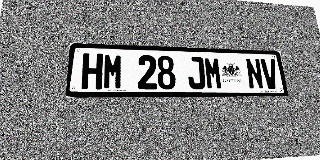2: (138, 55, 157, 90)
8: (157, 55, 176, 89)
H: (81, 53, 103, 90)
J: (187, 56, 206, 89)
M: (103, 54, 123, 90), (204, 57, 223, 89)
N: (245, 58, 264, 89)
V: (260, 59, 280, 89)
